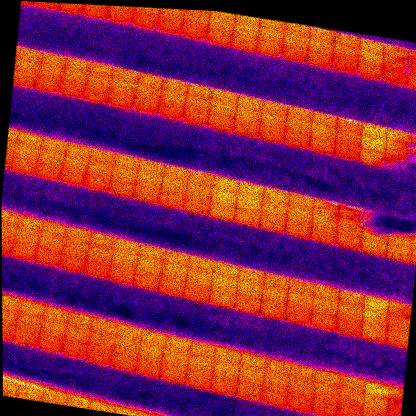Diode: (162, 76, 188, 96)
Hotspot: (11, 326, 40, 348), (16, 212, 44, 234), (339, 373, 366, 395), (311, 196, 339, 217), (336, 215, 364, 236), (88, 231, 115, 252), (187, 169, 215, 189), (66, 312, 93, 332), (337, 203, 365, 222), (64, 226, 90, 246), (162, 163, 189, 182), (91, 318, 118, 337), (337, 390, 364, 409), (336, 116, 362, 135), (263, 273, 289, 292), (338, 290, 364, 309), (334, 31, 360, 49), (187, 83, 213, 101), (186, 184, 212, 202), (284, 22, 311, 38), (18, 385, 43, 401), (2, 294, 21, 314)
Normal: (82, 259, 111, 281), (132, 270, 161, 292), (85, 344, 112, 367), (106, 89, 134, 111), (157, 276, 185, 298), (183, 281, 211, 303), (331, 55, 359, 77), (185, 366, 213, 388), (284, 219, 313, 240), (33, 245, 62, 266), (259, 300, 286, 322), (110, 350, 137, 372), (135, 355, 162, 377), (160, 362, 187, 384), (210, 374, 237, 396), (285, 392, 312, 414), (107, 264, 135, 285), (208, 288, 236, 309), (309, 311, 337, 332), (14, 312, 42, 333), (214, 346, 242, 367), (233, 208, 262, 228), (59, 166, 86, 187), (156, 15, 183, 36), (239, 352, 266, 373), (236, 381, 263, 402), (261, 387, 288, 408), (131, 96, 159, 116), (181, 107, 209, 127), (262, 185, 290, 205), (106, 5, 134, 25), (208, 202, 236, 222), (334, 232, 362, 252), (58, 252, 86, 272), (114, 323, 142, 343), (314, 369, 342, 389), (60, 339, 88, 359), (81, 86, 110, 105), (157, 191, 186, 210), (188, 341, 217, 360), (364, 380, 390, 401), (213, 174, 240, 194), (34, 162, 61, 182), (184, 195, 211, 215), (309, 225, 336, 245), (181, 22, 208, 42), (212, 261, 239, 281), (335, 317, 362, 337), (264, 358, 291, 378), (37, 333, 64, 353), (57, 81, 85, 100), (258, 124, 286, 143), (207, 15, 235, 34), (286, 205, 314, 224), (258, 214, 286, 233), (186, 256, 214, 275), (61, 240, 89, 259), (8, 241, 36, 260), (233, 295, 261, 314), (206, 114, 235, 132), (135, 72, 164, 90), (157, 102, 183, 122), (65, 142, 91, 162), (238, 180, 264, 200), (11, 155, 37, 175), (162, 250, 188, 270), (238, 368, 264, 388), (287, 192, 314, 211), (160, 176, 187, 195), (210, 189, 237, 208), (236, 194, 263, 213), (83, 173, 110, 192), (113, 238, 140, 257), (238, 267, 265, 286), (86, 246, 113, 265), (287, 279, 314, 298), (360, 324, 387, 343), (140, 329, 167, 348), (36, 64, 64, 82), (310, 212, 338, 230), (40, 221, 68, 239), (37, 233, 65, 251), (63, 326, 91, 344), (87, 331, 115, 349), (310, 398, 338, 416), (111, 67, 139, 85), (309, 124, 335, 143), (359, 37, 385, 56), (115, 153, 141, 172), (108, 177, 134, 196), (132, 11, 158, 30), (385, 243, 411, 262), (15, 228, 41, 247), (363, 295, 389, 314), (236, 280, 262, 299), (231, 34, 257, 53), (362, 310, 388, 329), (285, 306, 311, 325), (289, 365, 315, 384), (363, 397, 389, 416), (16, 46, 42, 65), (361, 124, 388, 142), (359, 137, 386, 155), (232, 120, 259, 138), (333, 144, 360, 162), (41, 137, 68, 155), (261, 200, 288, 218), (111, 252, 138, 270), (313, 285, 340, 303), (286, 292, 313, 310), (306, 50, 333, 68), (165, 336, 192, 354), (313, 385, 340, 403), (260, 100, 288, 117), (135, 258, 163, 275), (210, 276, 238, 293), (212, 362, 240, 379), (88, 63, 116, 80), (134, 186, 159, 205), (34, 78, 60, 96), (183, 10, 209, 28), (284, 130, 310, 148), (258, 27, 284, 45), (89, 149, 115, 167), (138, 245, 164, 263), (206, 29, 232, 47), (19, 300, 45, 318), (41, 306, 67, 324), (40, 319, 66, 337), (263, 374, 289, 392), (211, 89, 238, 106), (37, 149, 64, 166), (307, 38, 334, 55), (185, 270, 212, 287), (256, 41, 283, 58), (281, 46, 308, 63), (287, 380, 314, 397), (64, 58, 91, 75), (14, 59, 39, 77), (139, 158, 164, 176), (42, 52, 67, 70), (60, 70, 88, 86), (183, 96, 211, 112), (111, 339, 139, 355), (237, 95, 263, 112), (234, 107, 260, 124), (233, 22, 259, 39), (17, 132, 43, 149), (283, 32, 309, 49), (361, 238, 387, 255), (358, 51, 384, 68), (262, 287, 288, 304), (309, 26, 335, 43), (85, 73, 112, 89), (311, 113, 338, 129), (209, 102, 236, 118), (259, 113, 286, 129), (334, 131, 361, 147), (111, 167, 138, 183), (311, 299, 338, 315), (137, 343, 164, 359), (15, 144, 40, 161), (135, 85, 161, 101), (159, 91, 185, 107), (285, 119, 311, 135), (82, 4, 108, 20), (87, 162, 113, 178), (337, 305, 363, 321), (163, 350, 189, 366), (188, 355, 214, 371), (356, 64, 382, 80), (110, 80, 137, 95), (308, 139, 335, 154), (332, 45, 359, 60), (160, 265, 187, 280), (63, 156, 88, 172), (137, 174, 162, 190), (286, 108, 312, 123), (57, 3, 85, 15), (336, 404, 364, 416), (2, 310, 19, 328), (3, 378, 19, 397), (158, 8, 184, 19), (2, 323, 15, 342), (34, 2, 59, 11), (133, 7, 159, 15), (407, 62, 416, 78), (406, 76, 416, 90), (361, 412, 387, 416)
Shadow: (386, 228, 413, 249), (362, 223, 388, 243), (381, 69, 407, 89), (363, 209, 389, 228), (383, 43, 410, 61), (387, 215, 414, 233), (384, 143, 411, 160), (358, 151, 385, 168), (382, 57, 409, 74), (386, 129, 412, 146), (384, 155, 410, 171), (408, 50, 416, 66)
